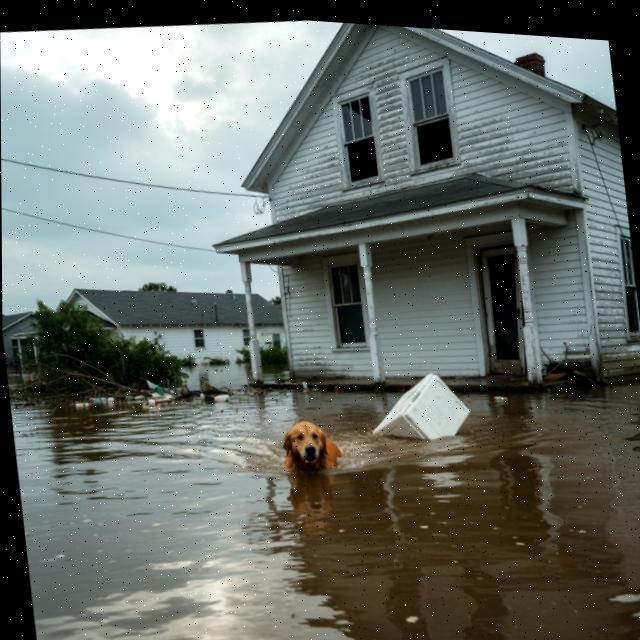dog: (269, 410, 349, 482)
